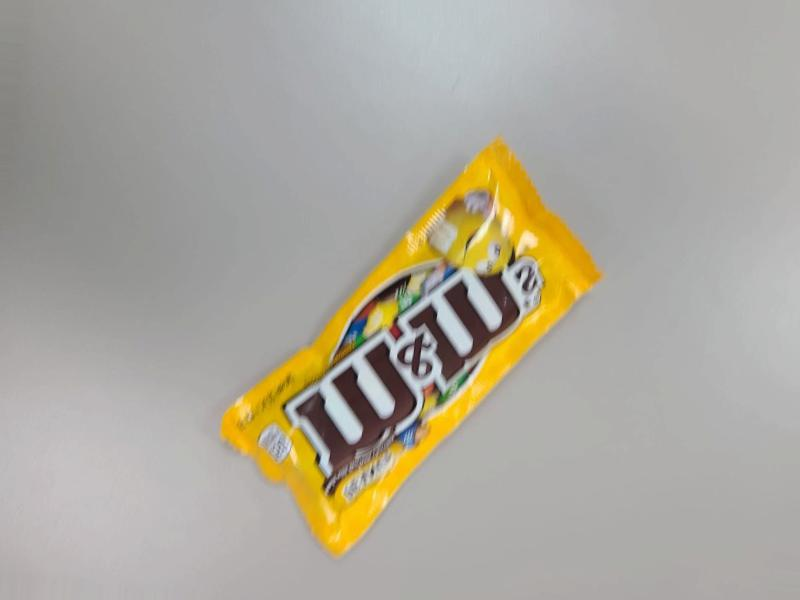m&m: (278, 251, 603, 574)
